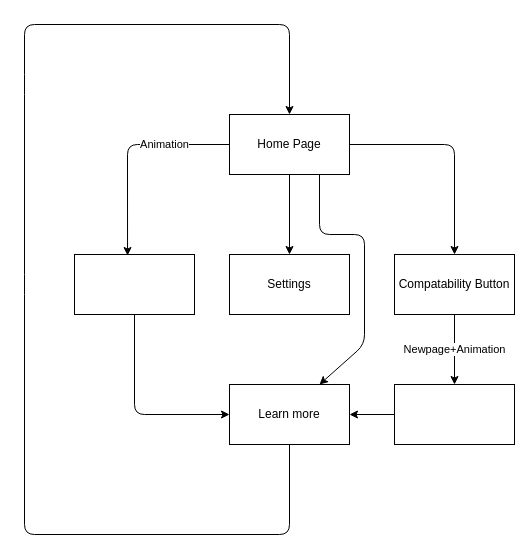
Some shapes in this 532 by 560 pixel diagram are drawn without their labels. The shapes that lost their labels are listed below. From the top down, each one's centre as x and y in pixels, then its label:
At point (134, 284): "Your Horoscope is".
At point (454, 414): "Compability Checker page".
